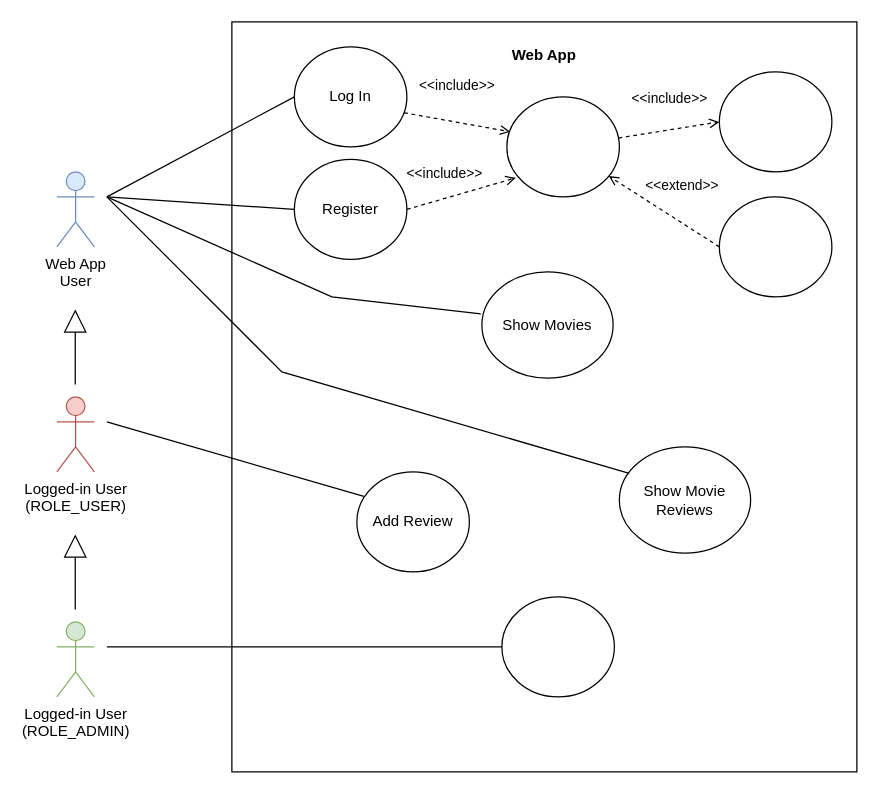
This 879x794 diagram has some shape labels left out. The shapes that lost their labels are listed below. From the top down, each one's centre as x and y in pixels, then its label:
At point (775, 121): "Verify Credentials".
At point (562, 146): "Data Validation".
At point (775, 246): "Display Error".
At point (557, 646): "Movie Management".
